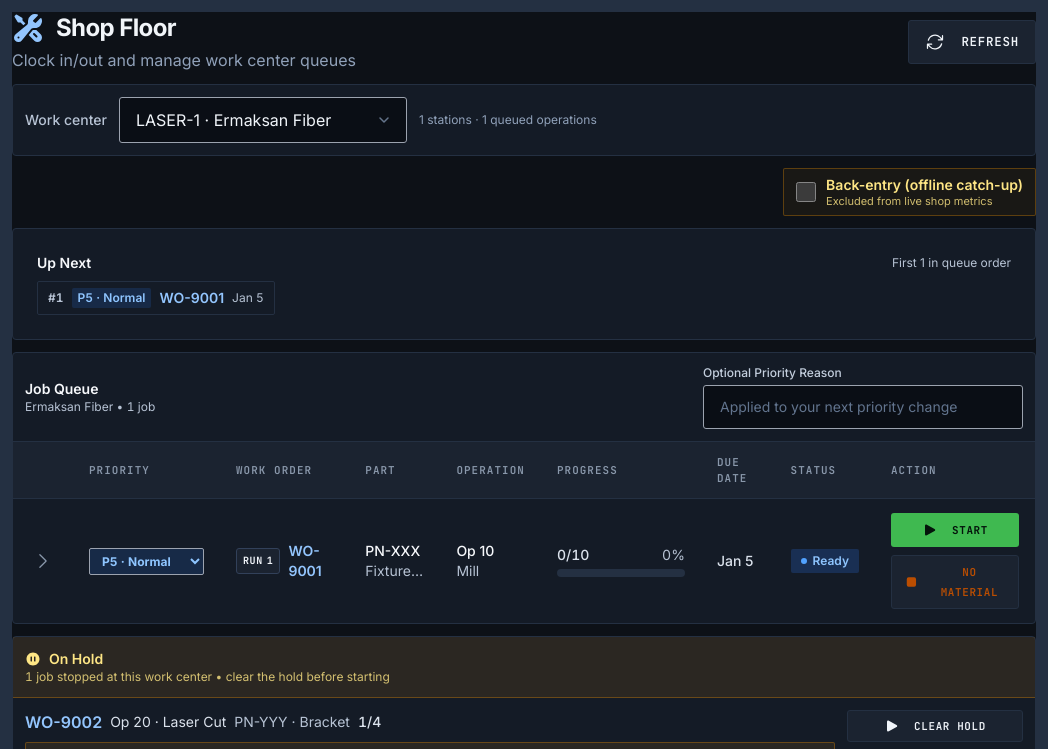
Test: ShopFloor Clear Hold › reports a clean lift as success
Click the button with aria-label "clear hold on WO-9002": x=935, y=726 left=847, top=710, right=1023, bottom=742
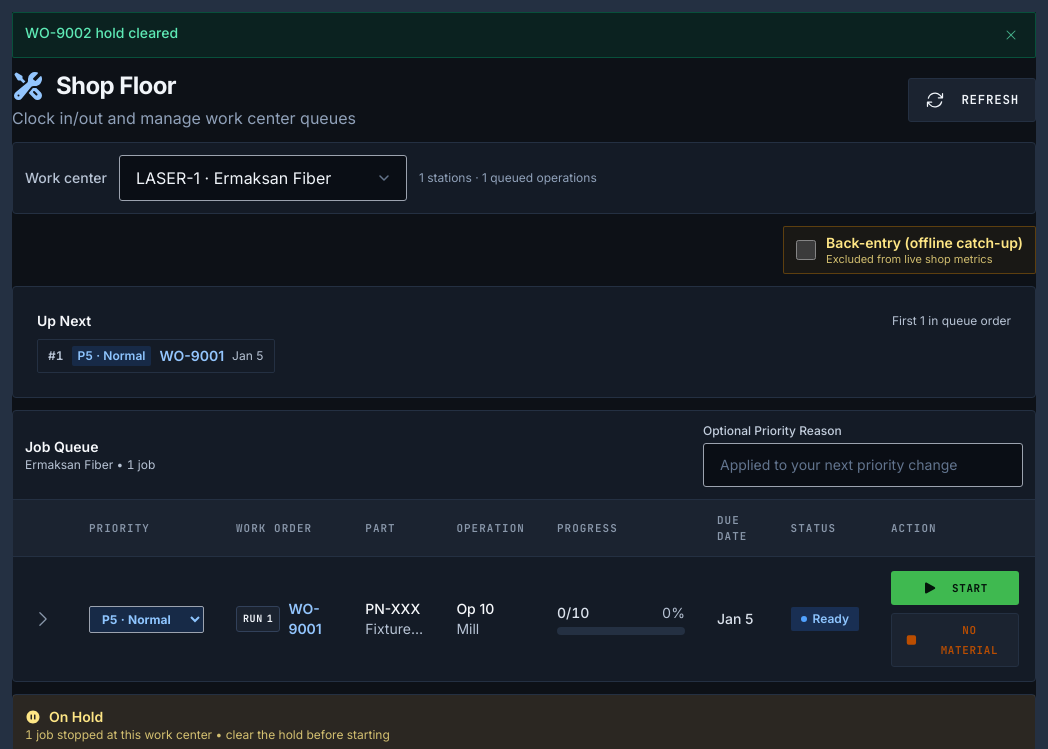
Expected: the message reads "WO-9002 hold cleared", left=25, top=24, right=178, bottom=41
